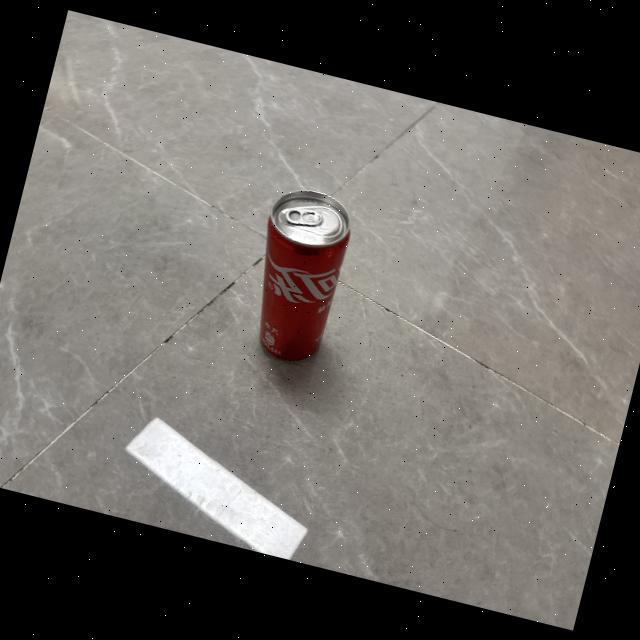Cola: (230, 176, 365, 380)
